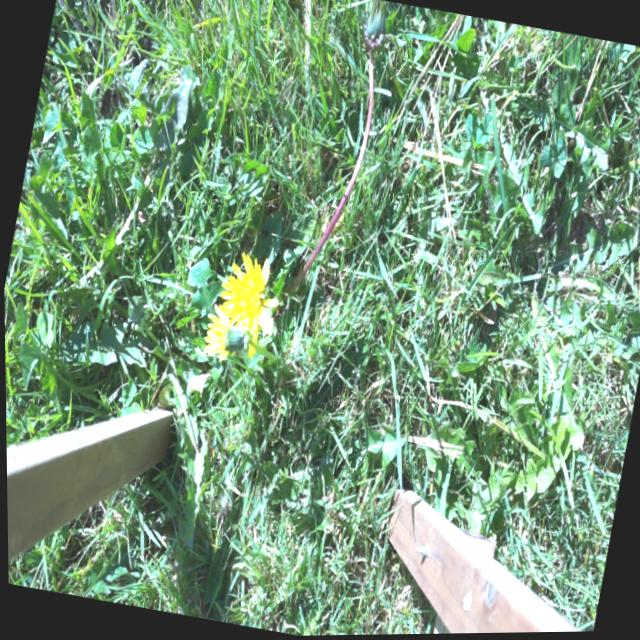base: (267, 281, 297, 325), (270, 349, 295, 385)
